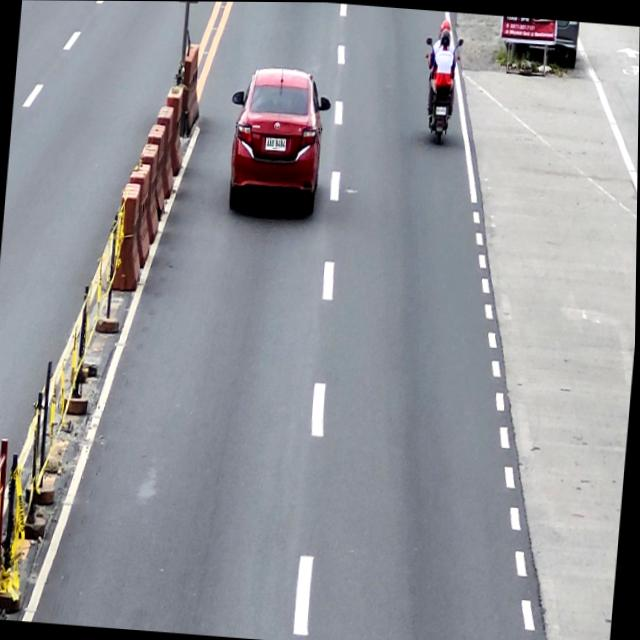Car: (223, 63, 334, 217)
License-Plate: (264, 137, 286, 151), (435, 105, 447, 116)
Motorcycle: (418, 35, 463, 147)
